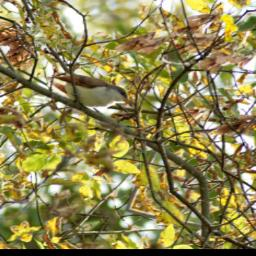Cuckoo: (46, 45, 142, 130)
